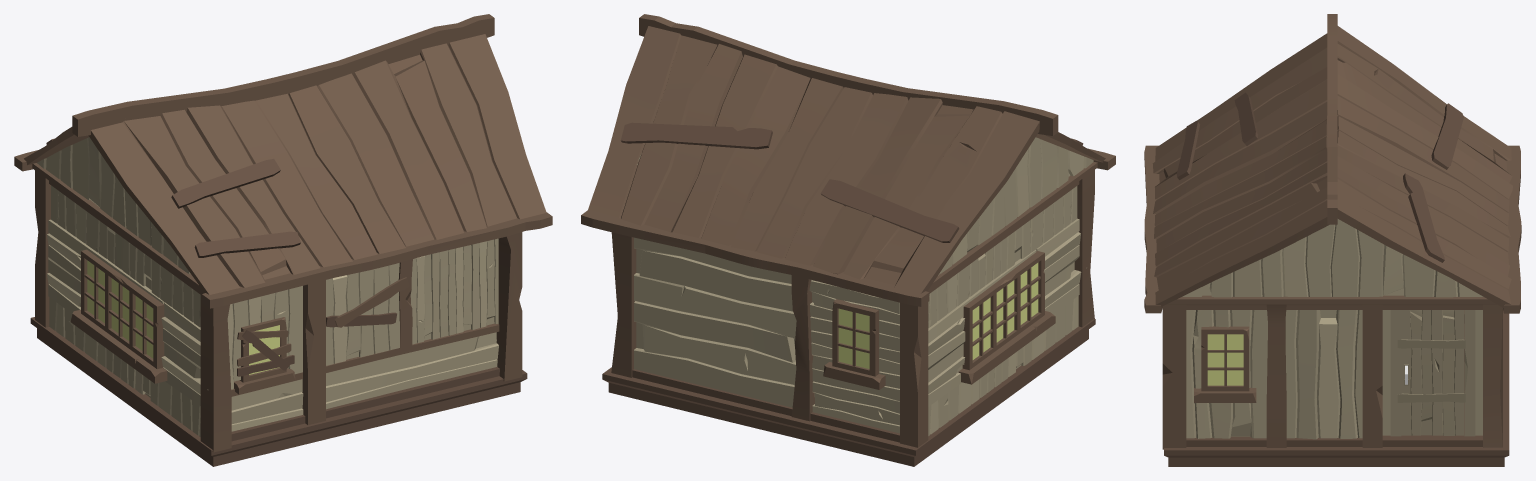
Rendered from coloringhouse1.fbx.
The picture shows the model from 3 angles, left to right: view 1: azimuth 30°, elevation 25°; view 2: azimuth 150°, elevation 25°; view 3: azimuth 270°, elevation 25°; orthographic projection. The views are drawn at different scales.
Parts seen in each view (by area): view 1: House.006, House_1_Roof.006, House_1_Roof.007; view 2: House.006, House_1_Roof.006, House_1_Roof.007; view 3: House_1_Roof.006, House.006, House_1_Roof.007.
Boxes of the visible parts, x1,y1,x2,y2 form: House.006: (30,170,527,466); House_1_Roof.006: (14,61,434,308); House_1_Roof.007: (338,14,552,254); House.006: (602,170,1095,466); House_1_Roof.006: (637,60,1115,306); House_1_Roof.007: (581,14,794,253); House_1_Roof.006: (1144,14,1521,309); House.006: (1162,304,1509,466); House_1_Roof.007: (1144,147,1520,313).
Size of the model in its own units: 573 by 395 by 471.
